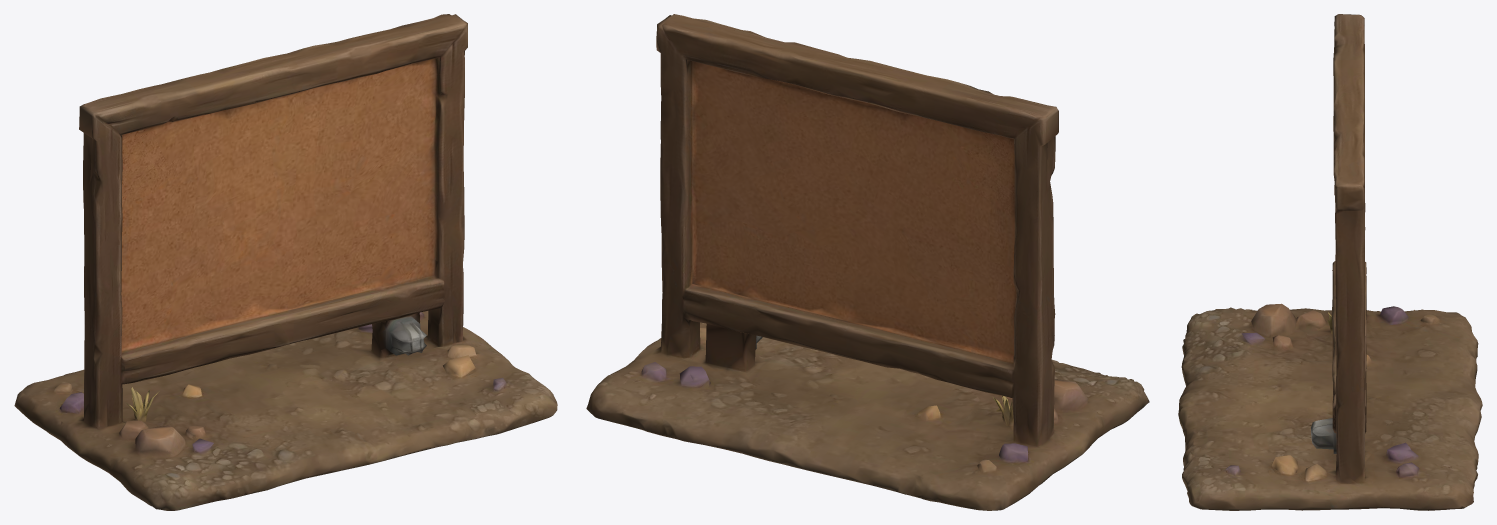
Rendered from office_corkboard.glb.
3 renders of one model, left to right at view 1: azimuth 30°, elevation 25°; view 2: azimuth 150°, elevation 25°; view 3: azimuth 270°, elevation 25°, orthographic. The views are drawn at different scales.
Parts seen in each view (by area): view 1: tripo_node_dc38bc4f-c22b-49e1-bc59-c385530f2fb7; view 2: tripo_node_dc38bc4f-c22b-49e1-bc59-c385530f2fb7; view 3: tripo_node_dc38bc4f-c22b-49e1-bc59-c385530f2fb7.
Boxes of the visible parts, box(x1,y1,x2,y2) form: tripo_node_dc38bc4f-c22b-49e1-bc59-c385530f2fb7: box(14, 14, 557, 510); tripo_node_dc38bc4f-c22b-49e1-bc59-c385530f2fb7: box(586, 14, 1149, 510); tripo_node_dc38bc4f-c22b-49e1-bc59-c385530f2fb7: box(1178, 14, 1482, 510).
Bounding box in the file's own units: 1 × 0.7871 × 0.6749.
1 material, 1 textured.
